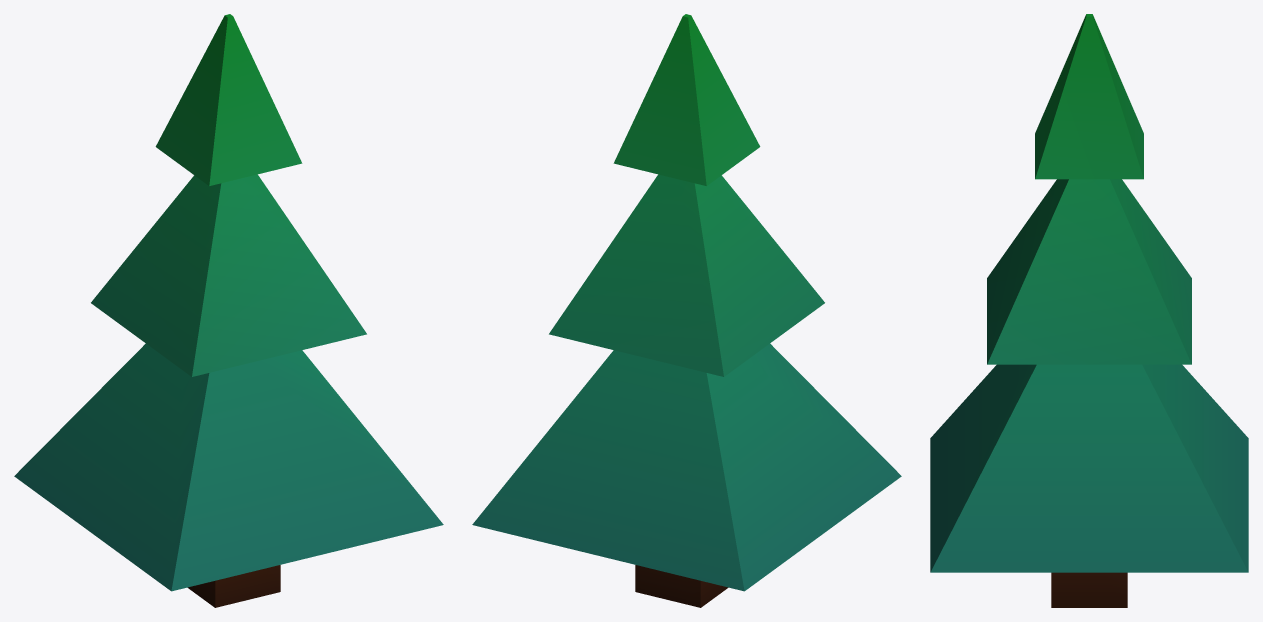
Rendered from Tree.glb.
3 renders of one model, left to right at view 1: azimuth 30°, elevation 25°; view 2: azimuth 150°, elevation 25°; view 3: azimuth 270°, elevation 25°, orthographic.
Parts seen in each view (by area): view 1: Tree; view 2: Tree; view 3: Tree.
Part boxes in pixels (left/top/right/bottom): Tree: left=14, top=14, right=443, bottom=607; Tree: left=472, top=14, right=901, bottom=607; Tree: left=930, top=14, right=1248, bottom=607.
Size of the model in its own units: 0.5 by 1 by 0.5.
